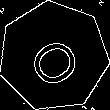O_NE: (20, 25, 87, 88)
